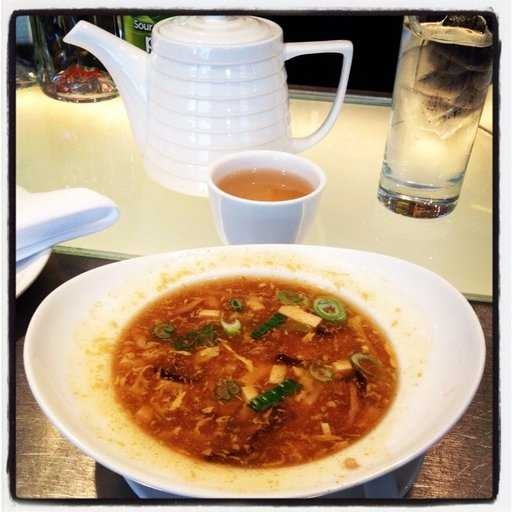soup: (78, 260, 422, 441)
